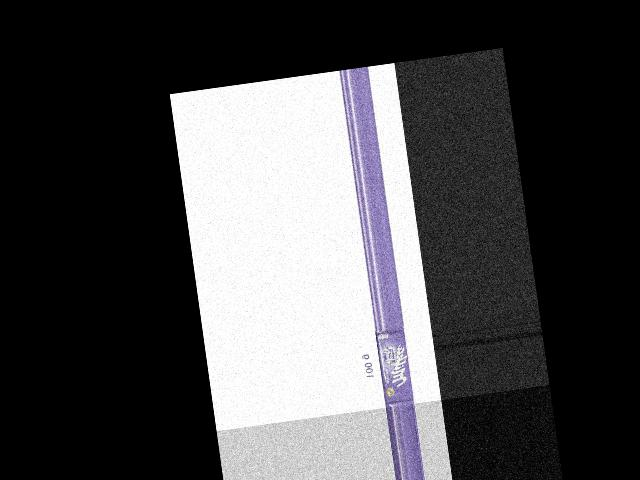chocolate: (369, 325, 414, 406)
